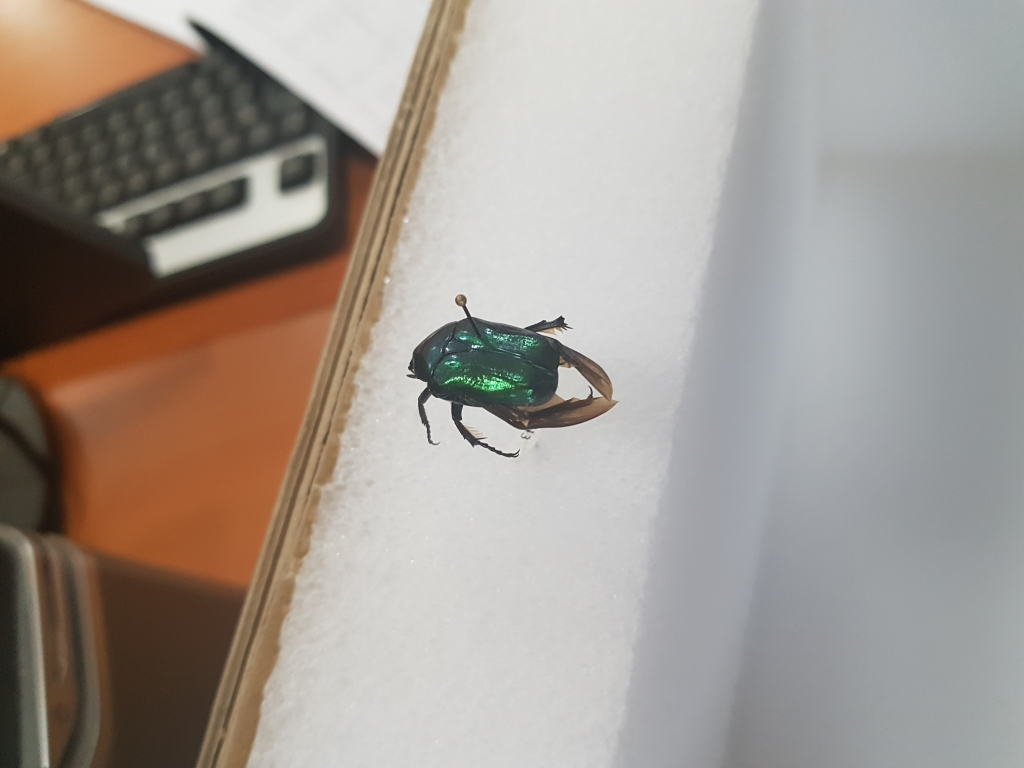Protaetia_angustata_angustata: (398, 311, 632, 459)
